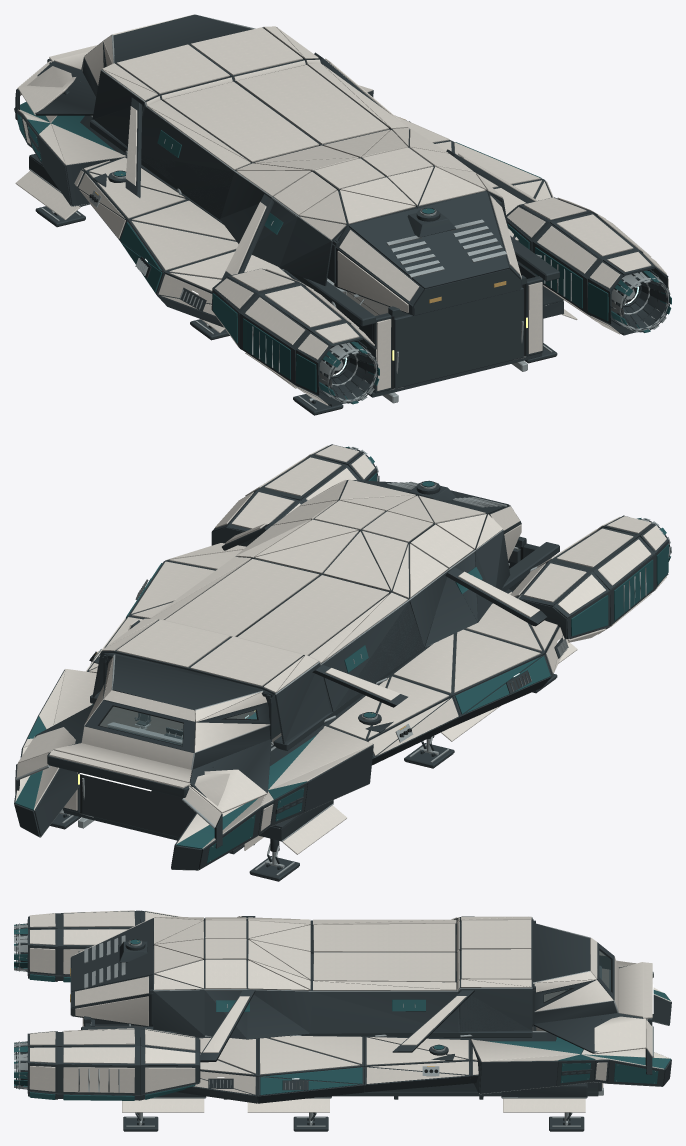
The model's file is atlas-mark-ii-lod1.glb.
The picture shows the model from 3 angles, top to bottom: view 1: azimuth 30°, elevation 25°; view 2: azimuth 150°, elevation 25°; view 3: azimuth 270°, elevation 25°; orthographic projection. The views are drawn at different scales.
Visible parts, largest first — view 1: MeridianDorsalShell_ivory Geometry, MeridianDorsalShell_dark Geometry, AftEngineering_dark Geometry, PortLoadShoulder_ivory Geometry, RampAft_dark Geometry, PortDrive_ivory Geometry, StarboardDrive_ivory Geometry, PortDrive_dark Geometry, ExteriorStructure_dark Geometry, StarboardDrive_dark Geometry, AftEngineering_ivory Geometry, PressureBridge_dark Geometry (+17 smaller); view 2: MeridianDorsalShell_ivory Geometry, MeridianDorsalShell_dark Geometry, PortLoadShoulder_ivory Geometry, PressureBridge_dark Geometry, PortDrive_ivory Geometry, PressureBridge_ivory Geometry, LoadingBow_ivory Geometry, PortLoadShoulder_dark Geometry, StarboardDrive_ivory Geometry, PortBowCheek_dark Geometry, RampFront_dark Geometry, PortBowCheek_ivory Geometry (+19 smaller); view 3: MeridianDorsalShell_ivory Geometry, MeridianDorsalShell_dark Geometry, StarboardLoadShoulder_ivory Geometry, StarboardDrive_ivory Geometry, StarboardLoadShoulder_dark Geometry, PressureBridge_dark Geometry, AftEngineering_dark Geometry, StarboardBowCheek_dark Geometry, PortDrive_ivory Geometry, StarboardDrive_dark Geometry, ExteriorStructure_dark Geometry, AftEngineering_ivory Geometry (+24 smaller).
Part boxes in pixels (<box>): MeridianDorsalShell_ivory Geometry: <box>102,26,536,274</box>; MeridianDorsalShell_dark Geometry: <box>92,27,534,285</box>; AftEngineering_dark Geometry: <box>334,191,521,315</box>; PortLoadShoulder_ivory Geometry: <box>74,157,291,315</box>; RampAft_dark Geometry: <box>394,287,523,388</box>; PortDrive_ivory Geometry: <box>215,268,376,405</box>; StarboardDrive_ivory Geometry: <box>507,197,668,334</box>; PortDrive_dark Geometry: <box>211,268,378,406</box>; ExteriorStructure_dark Geometry: <box>63,81,559,397</box>; StarboardDrive_dark Geometry: <box>506,197,670,335</box>; AftEngineering_ivory Geometry: <box>337,195,521,312</box>; PressureBridge_dark Geometry: <box>82,14,252,96</box>; MeridianDorsalShell_ivory Geometry: <box>102,479,540,700</box>; MeridianDorsalShell_dark Geometry: <box>92,480,546,743</box>; PortLoadShoulder_ivory Geometry: <box>329,592,569,755</box>; PressureBridge_dark Geometry: <box>84,653,273,769</box>; PortDrive_ivory Geometry: <box>510,516,666,642</box>; PressureBridge_ivory Geometry: <box>81,656,269,769</box>; LoadingBow_ivory Geometry: <box>16,727,267,826</box>; PortLoadShoulder_dark Geometry: <box>269,589,563,766</box>; StarboardDrive_ivory Geometry: <box>215,445,374,528</box>; PortBowCheek_dark Geometry: <box>171,744,373,870</box>; RampFront_dark Geometry: <box>82,774,195,837</box>; PortBowCheek_ivory Geometry: <box>176,726,372,848</box>; MeridianDorsalShell_ivory Geometry: <box>154,916,531,1052</box>; MeridianDorsalShell_dark Geometry: <box>153,916,532,1062</box>; StarboardLoadShoulder_ivory Geometry: <box>194,1036,478,1094</box>; StarboardDrive_ivory Geometry: <box>29,1028,195,1093</box>; StarboardLoadShoulder_dark Geometry: <box>176,1032,556,1103</box>; PressureBridge_dark Geometry: <box>532,919,616,1026</box>; AftEngineering_dark Geometry: <box>70,918,153,1026</box>; StarboardBowCheek_dark Geometry: <box>470,1040,671,1093</box>; PortDrive_ivory Geometry: <box>29,910,181,974</box>; StarboardDrive_dark Geometry: <box>16,1028,200,1100</box>; ExteriorStructure_dark Geometry: <box>81,993,601,1099</box>; AftEngineering_ivory Geometry: <box>75,920,148,1026</box>.
Size of the model in its own units: 35.54 by 14.94 by 61.79.
Materials: 13 (2 with a texture image).
